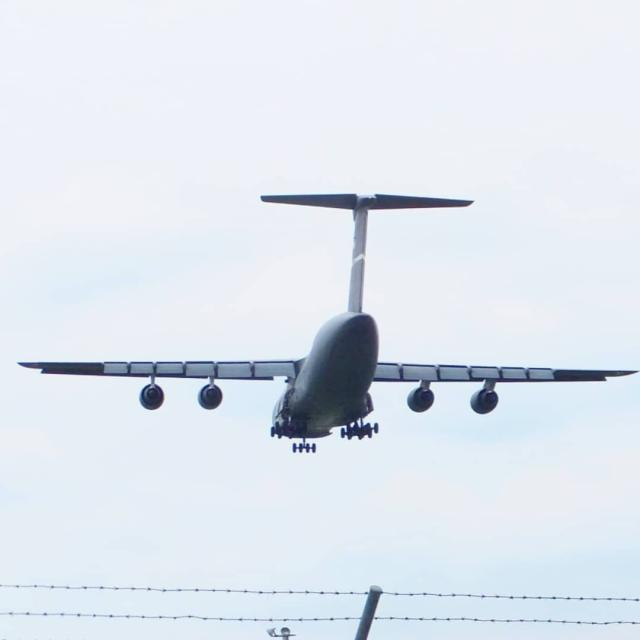MIL_Plane: (16, 193, 640, 454)
